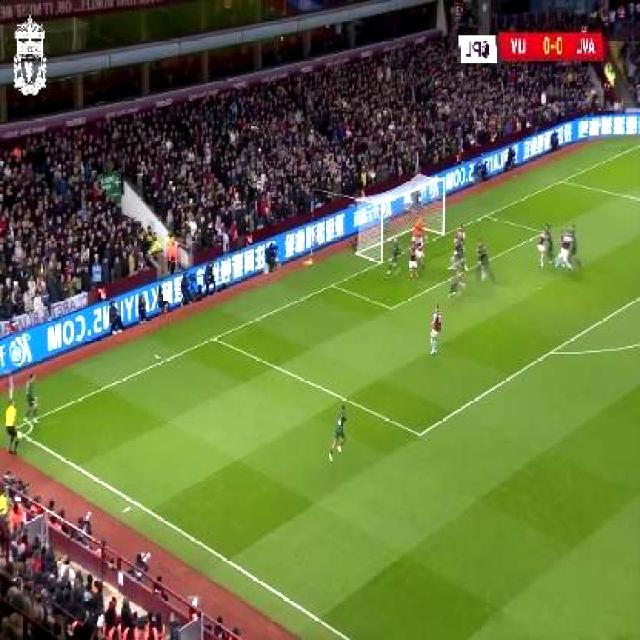bigarea_bottom_inner: (411, 420, 431, 446)
bigarea_bottom_outter: (208, 328, 225, 348)
bigarea_top_outter: (556, 172, 570, 188)
bottom_arc_area_intersection: (543, 340, 562, 363)
smallarea_bottom_inner: (383, 294, 402, 318)
smallarea_bottom_outter: (326, 276, 342, 292)
smallarea_top_inner: (536, 225, 550, 240)
smallarea_top_outter: (478, 206, 494, 223)
